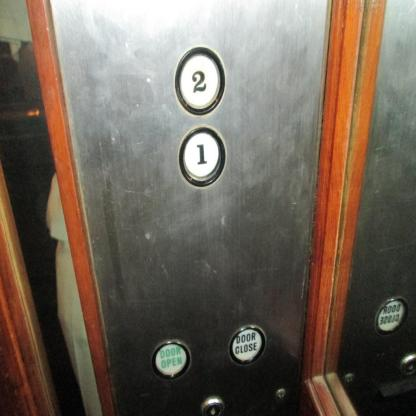1: (176, 124, 226, 189)
2: (172, 46, 227, 118)
keyhole: (198, 394, 228, 416), (400, 352, 416, 375)
text: (227, 324, 268, 366), (151, 338, 192, 378)
unknown: (373, 294, 408, 336)
